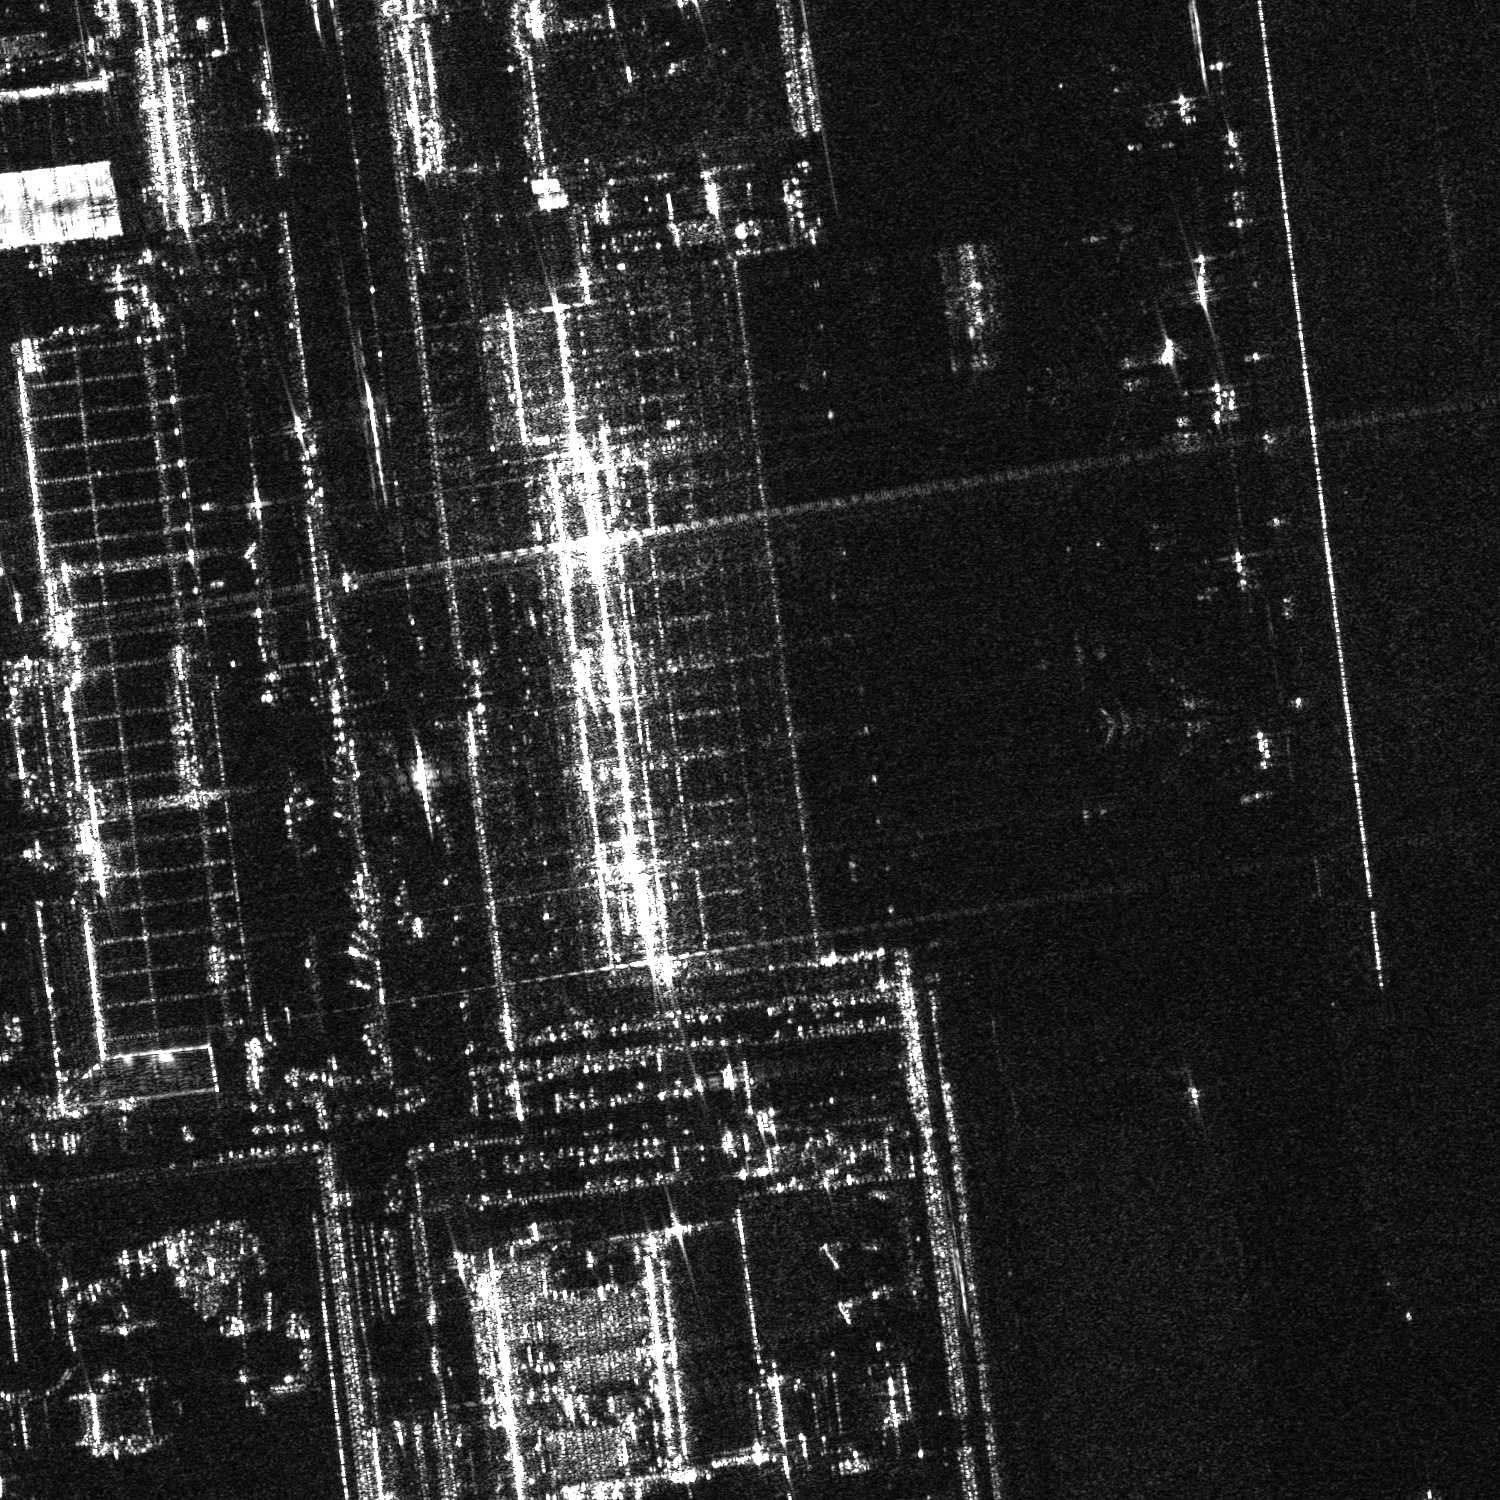A220: (1071, 205, 1140, 271)
Boeing787: (1102, 657, 1242, 777)
